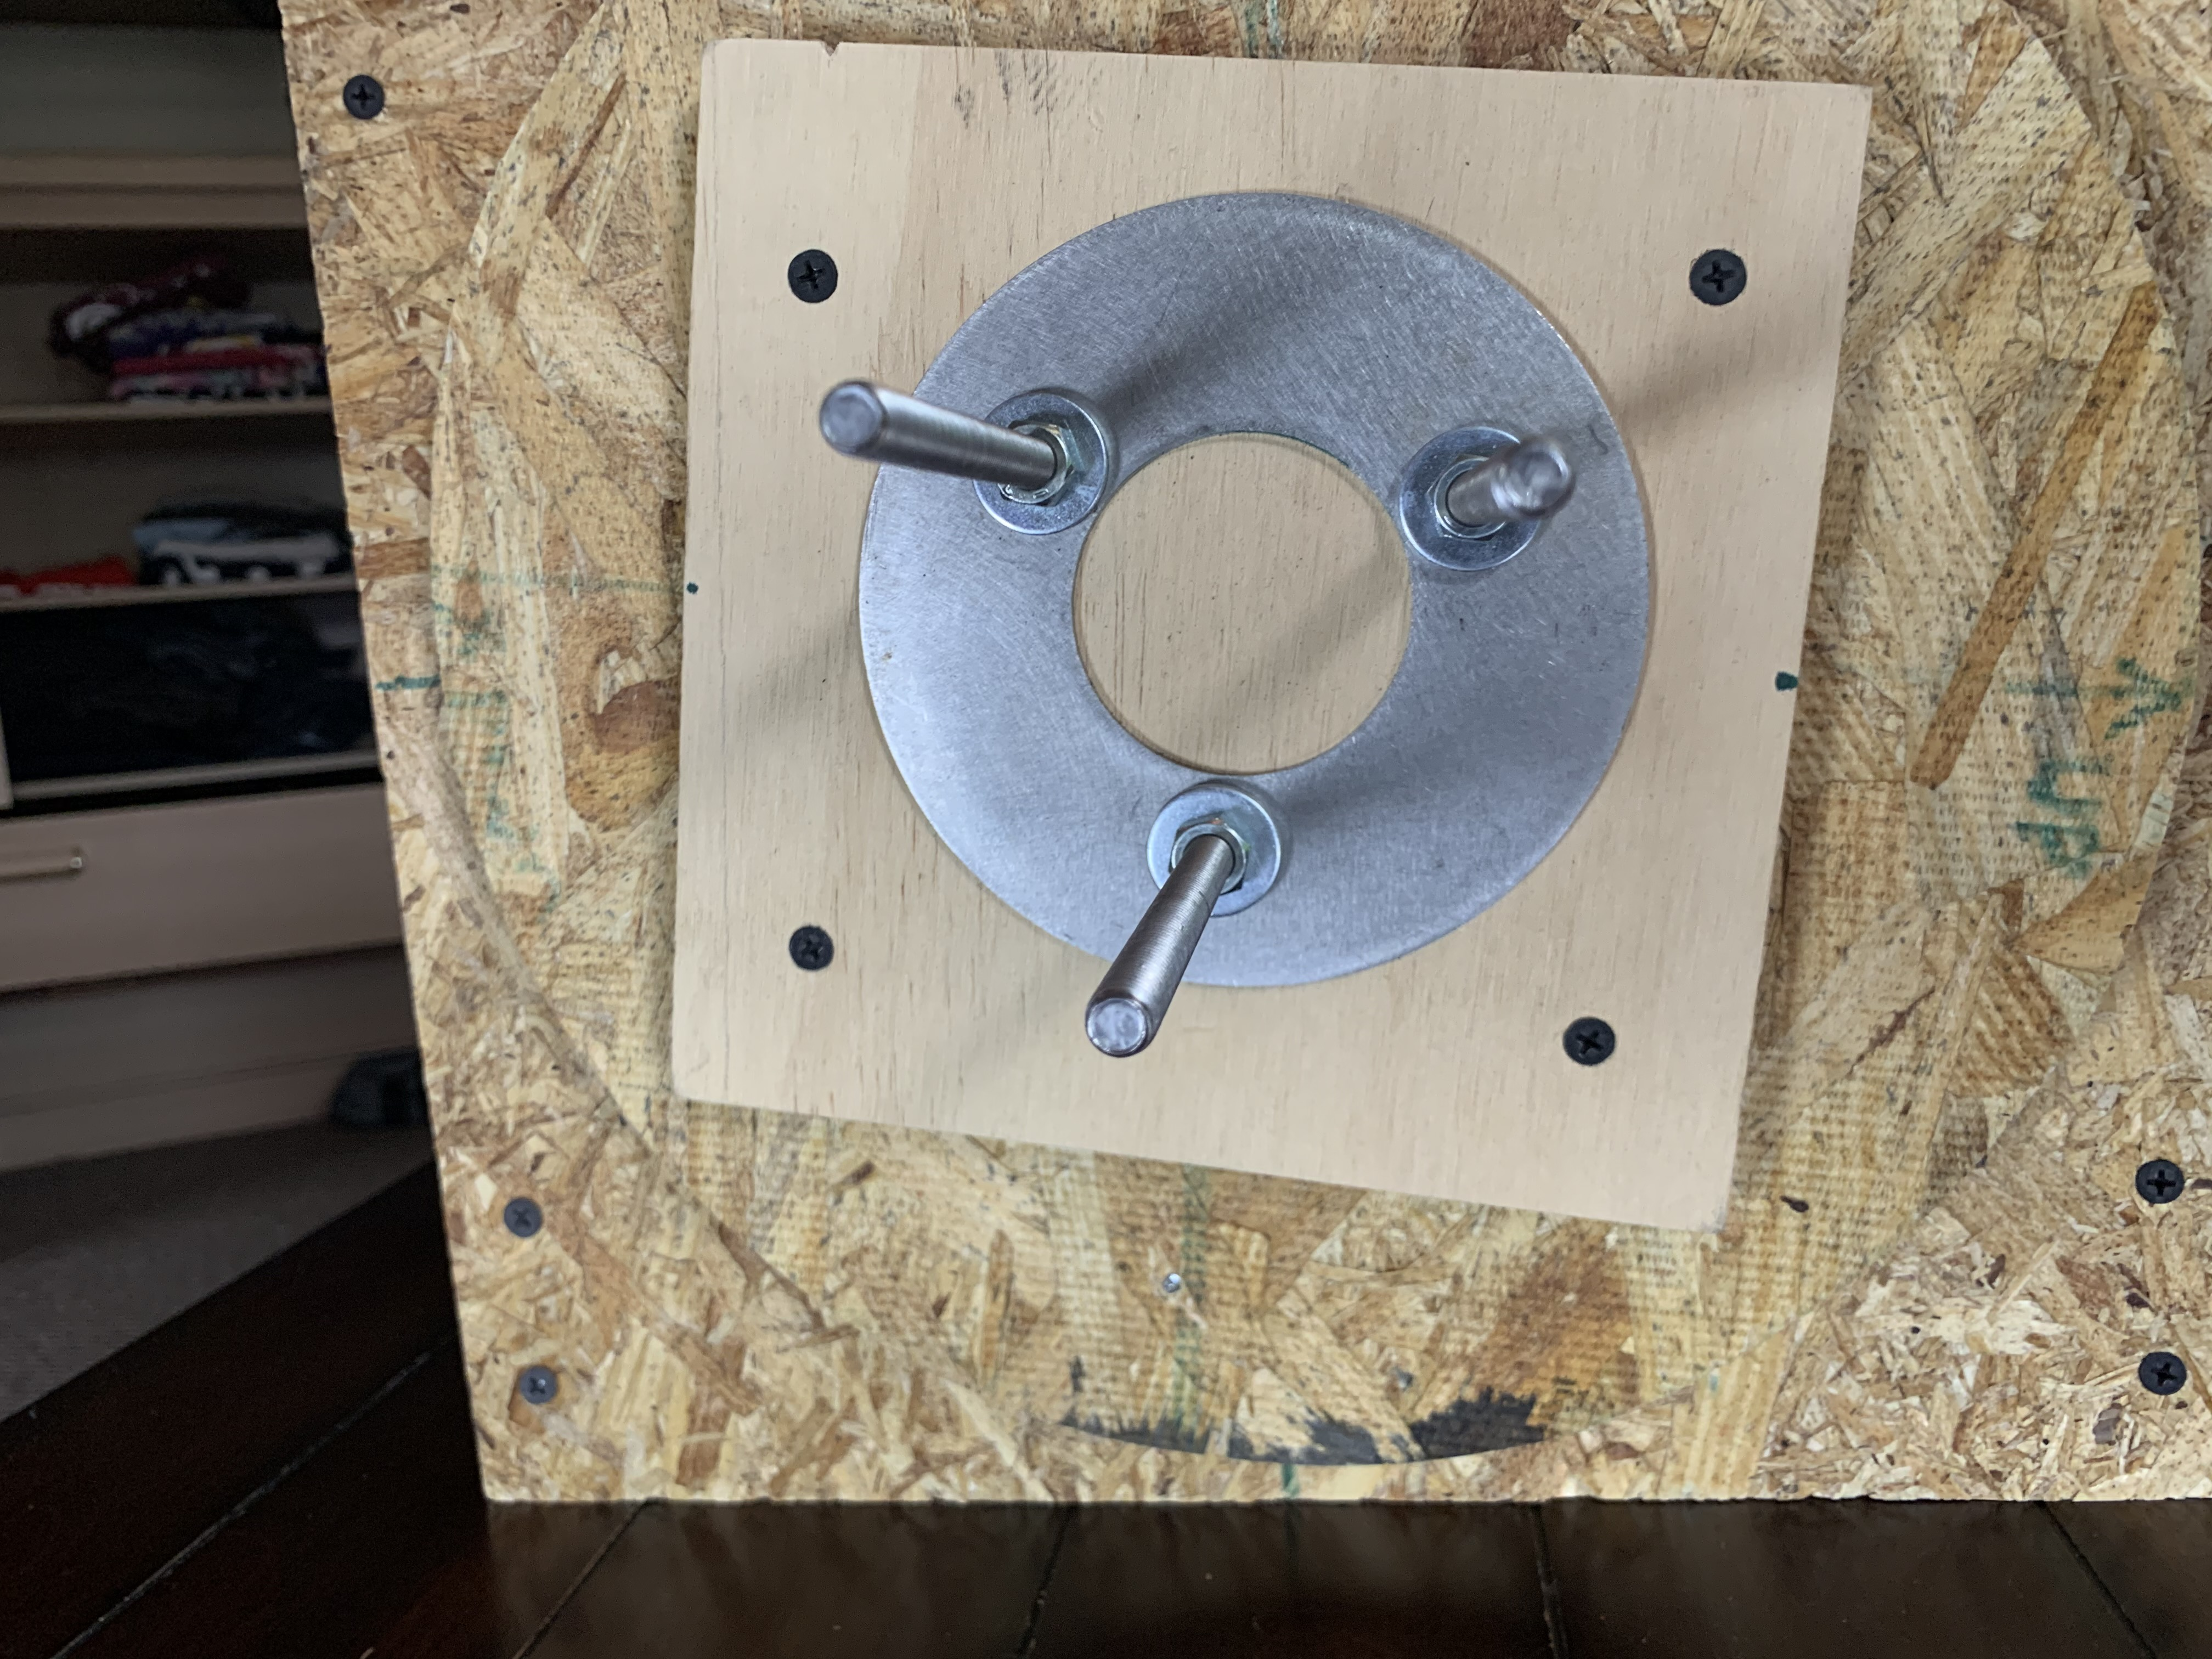bolt: (1395, 423, 1550, 575), (970, 387, 1113, 540), (1144, 781, 1289, 917)
